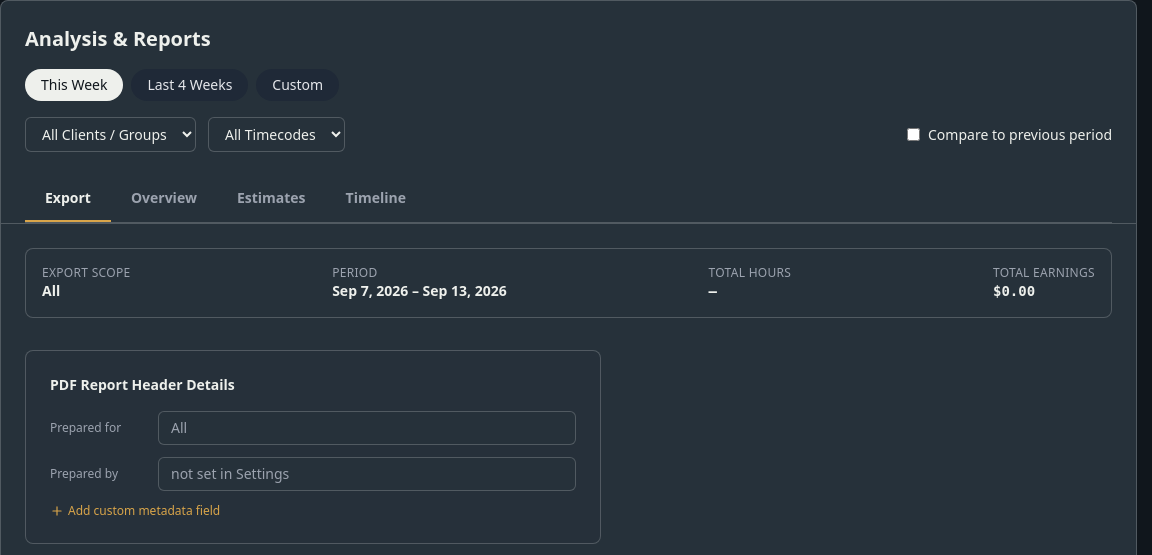
Test: estimate variance against a clipped entry › compares the whole task, not the part of it inside the range
The image size is (1152, 555).
Click the button "Custom" at (298, 85), box [256, 69, 339, 101]
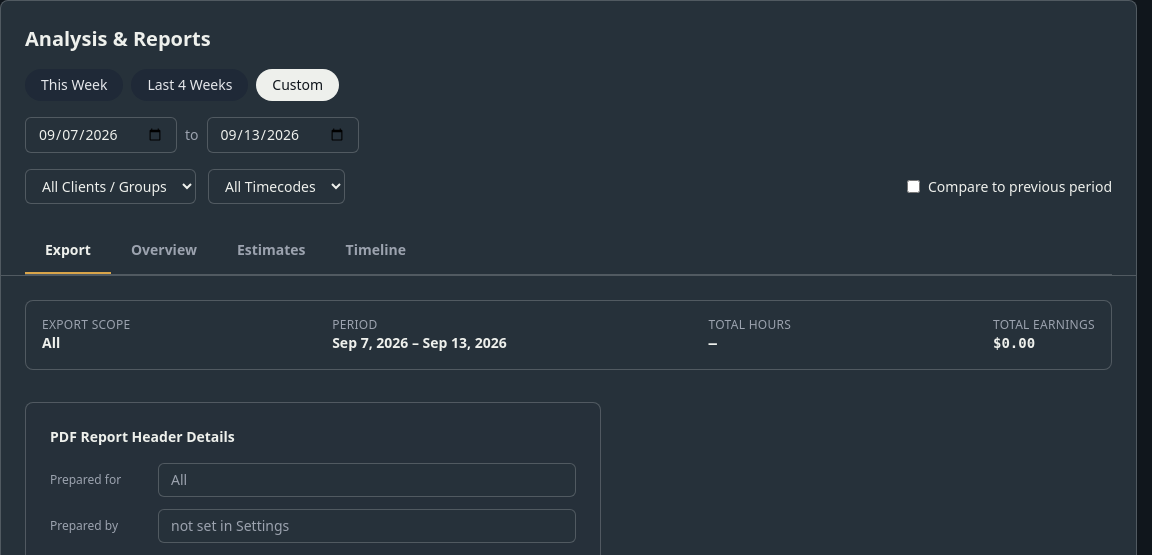
Type "2026-03-10" into the 1st date field at (101, 135), box [25, 117, 177, 153]
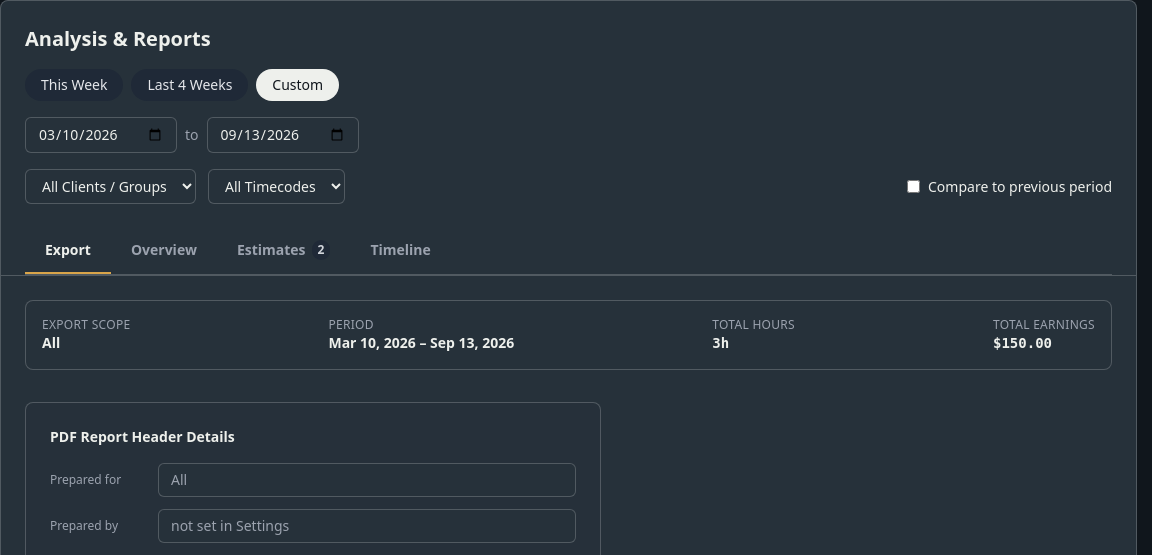
Type "2026-03-10" into the 2nd date field at (282, 135), box [206, 117, 358, 153]
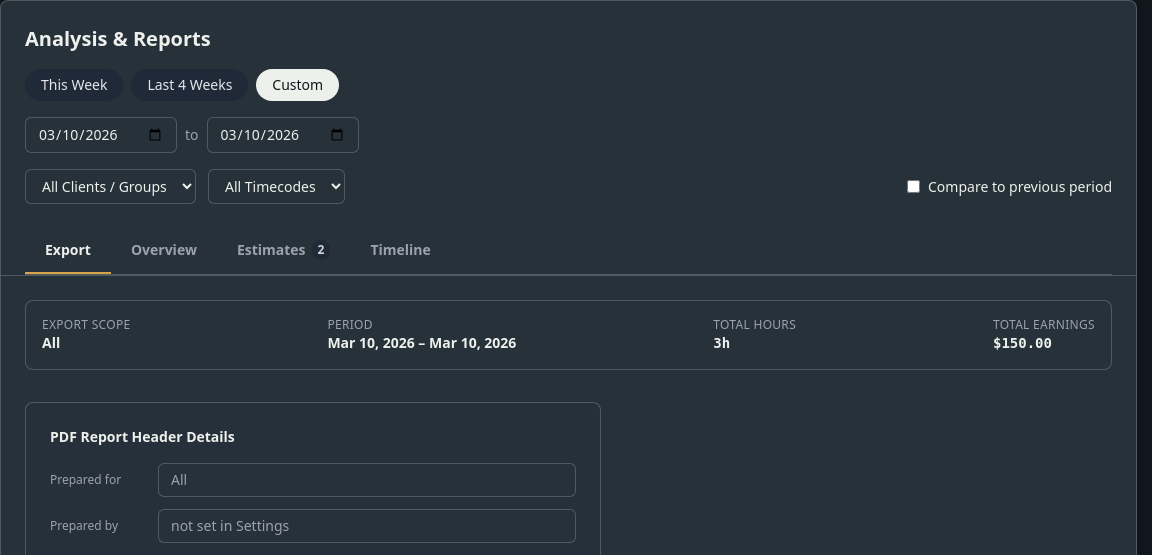
Click the tab "Estimates 2" at (284, 251), box [217, 228, 350, 274]
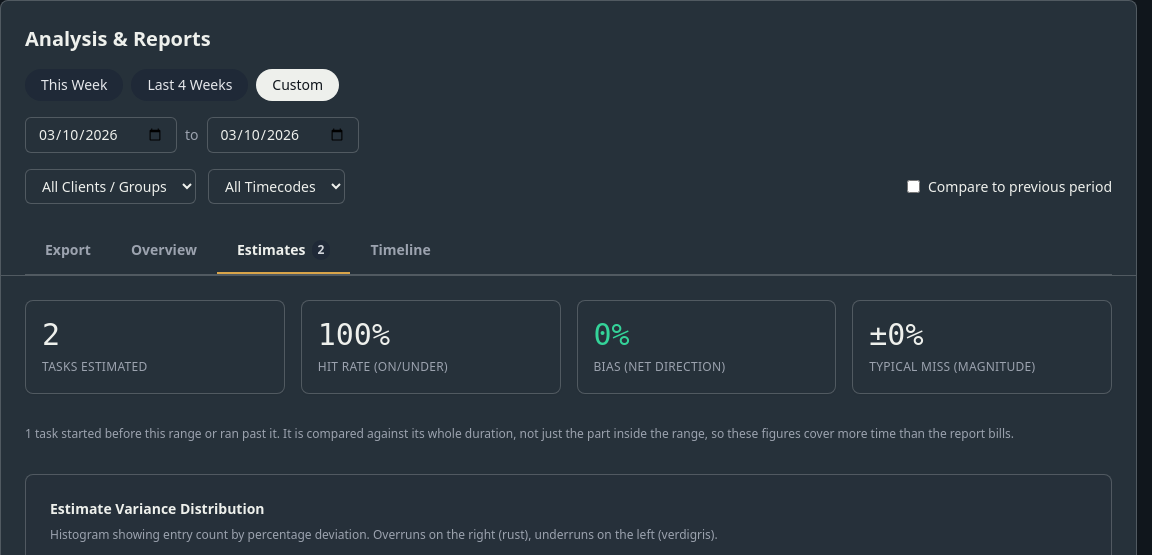
Now the text "bias (net direction)" is shown, box [594, 358, 725, 375]
Now the text "0%" is shown, box [594, 317, 630, 352]
Now the text "100%" is shown, box [318, 317, 390, 352]
